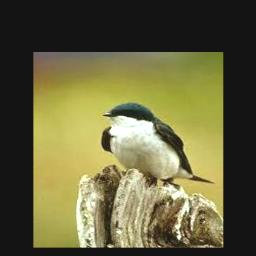Swallow: (102, 102, 214, 185)
